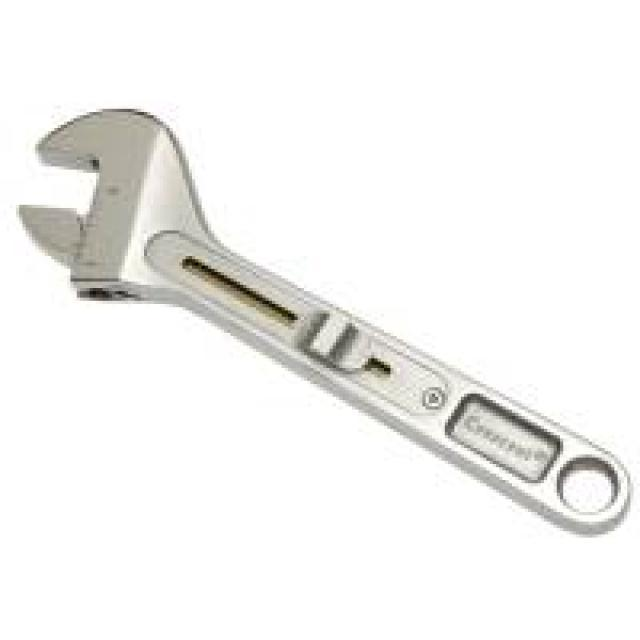wrench: (10, 104, 632, 538)
